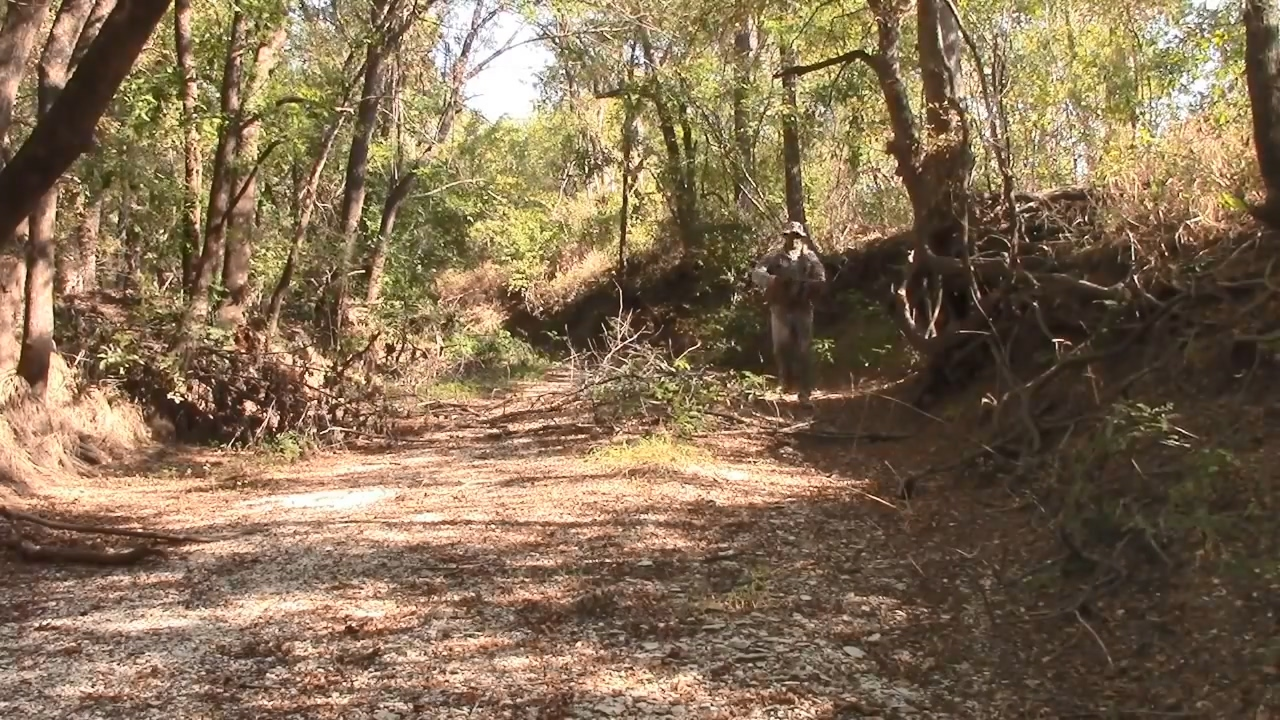person: (742, 216, 831, 408)
